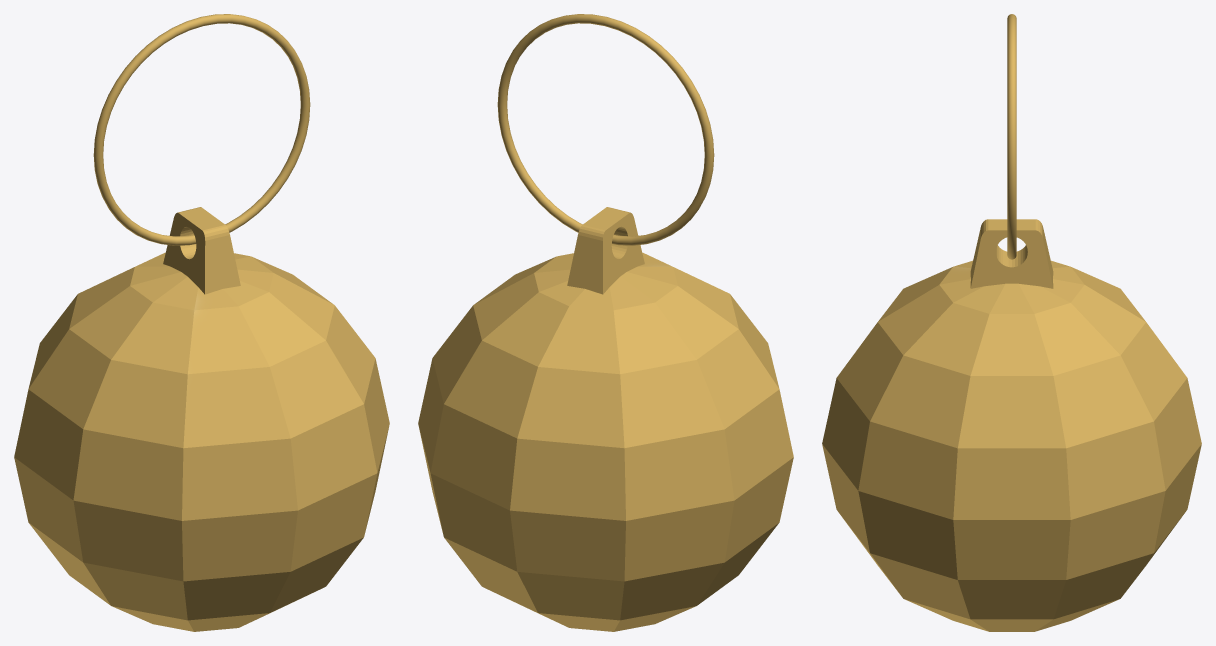
Rendered from bell.fbx.
The picture shows the model from 3 angles, left to right: view 1: azimuth 30°, elevation 25°; view 2: azimuth 150°, elevation 25°; view 3: azimuth 270°, elevation 25°; orthographic projection.
Parts seen in each view (by area): view 1: Bell; view 2: Bell; view 3: Bell.
Boxes of the visible parts, x1,y1,x2,y2 form: Bell: (14,14,389,631); Bell: (418,14,793,631); Bell: (822,14,1201,631).
Size of the model in its own units: 120 by 217 by 126.
